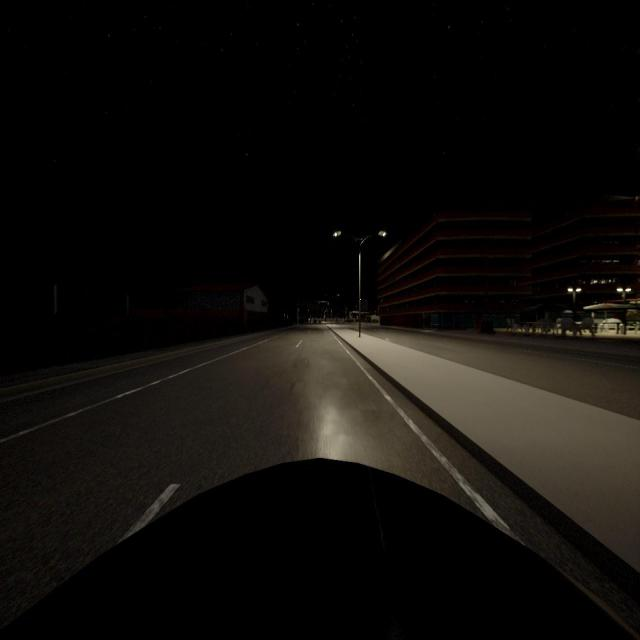Vehicle: (0, 458, 640, 640), (314, 320, 316, 324)
traffic_light: (318, 301, 320, 304), (328, 302, 328, 305)
